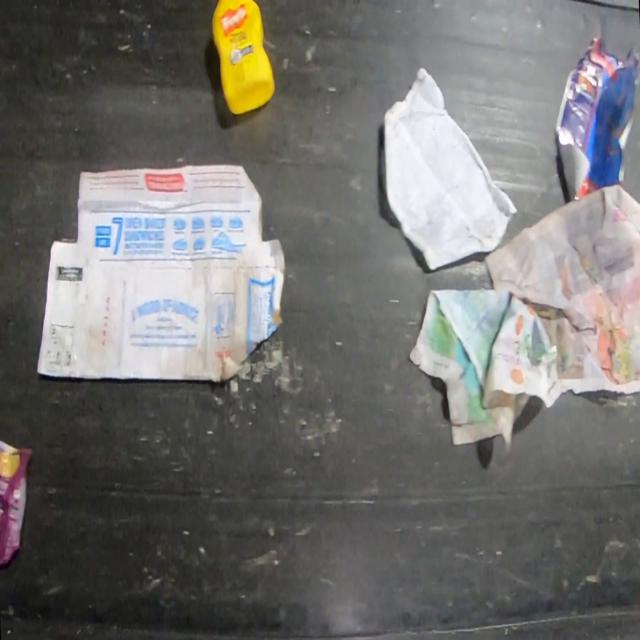cardboard: (36, 164, 286, 386)
rigid_plastic: (210, 1, 277, 117)
soft_plastic: (0, 442, 31, 570)
